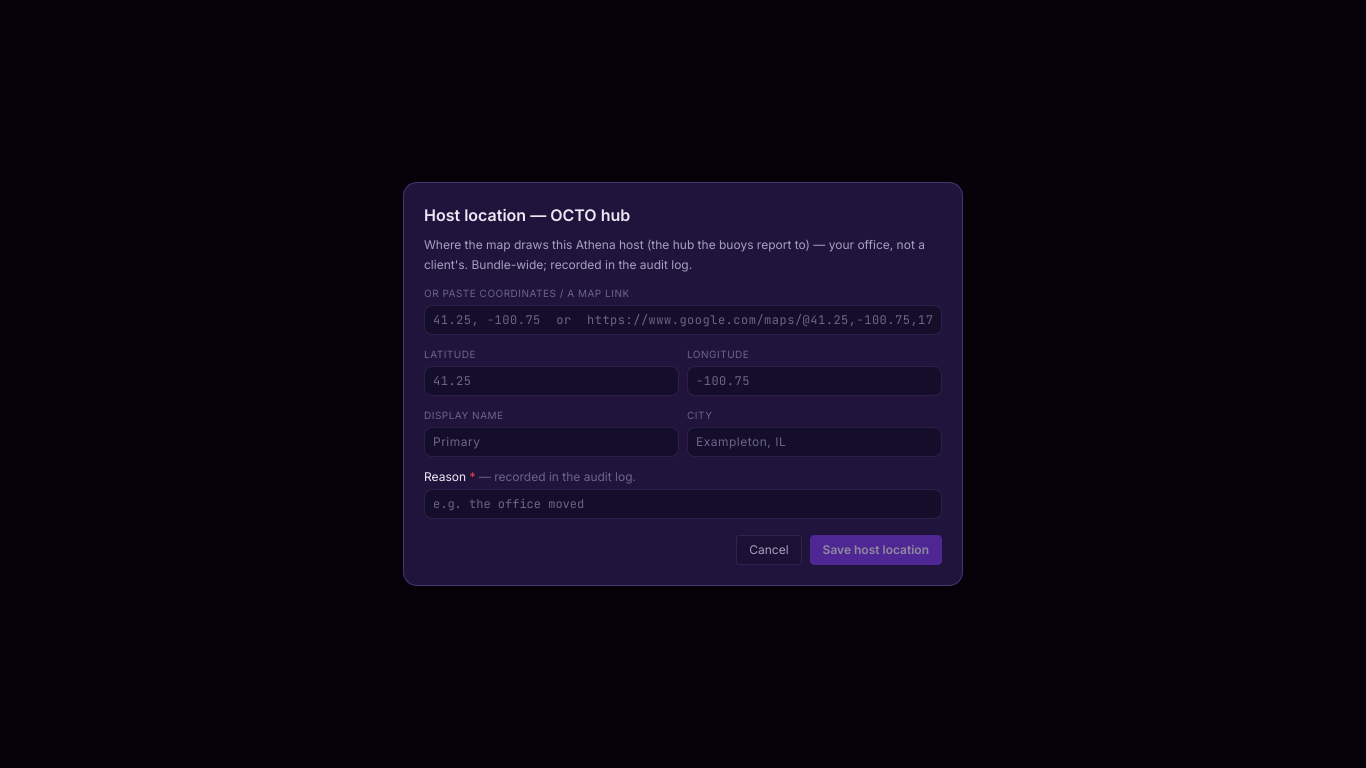
host location dialog › the hub never read: an empty city is not sent; a save error is shown
Replace the text in the field named "paste coordinates or map link" with "41.26, -100.75". click: (683, 320)
box: [424,305,942,335]
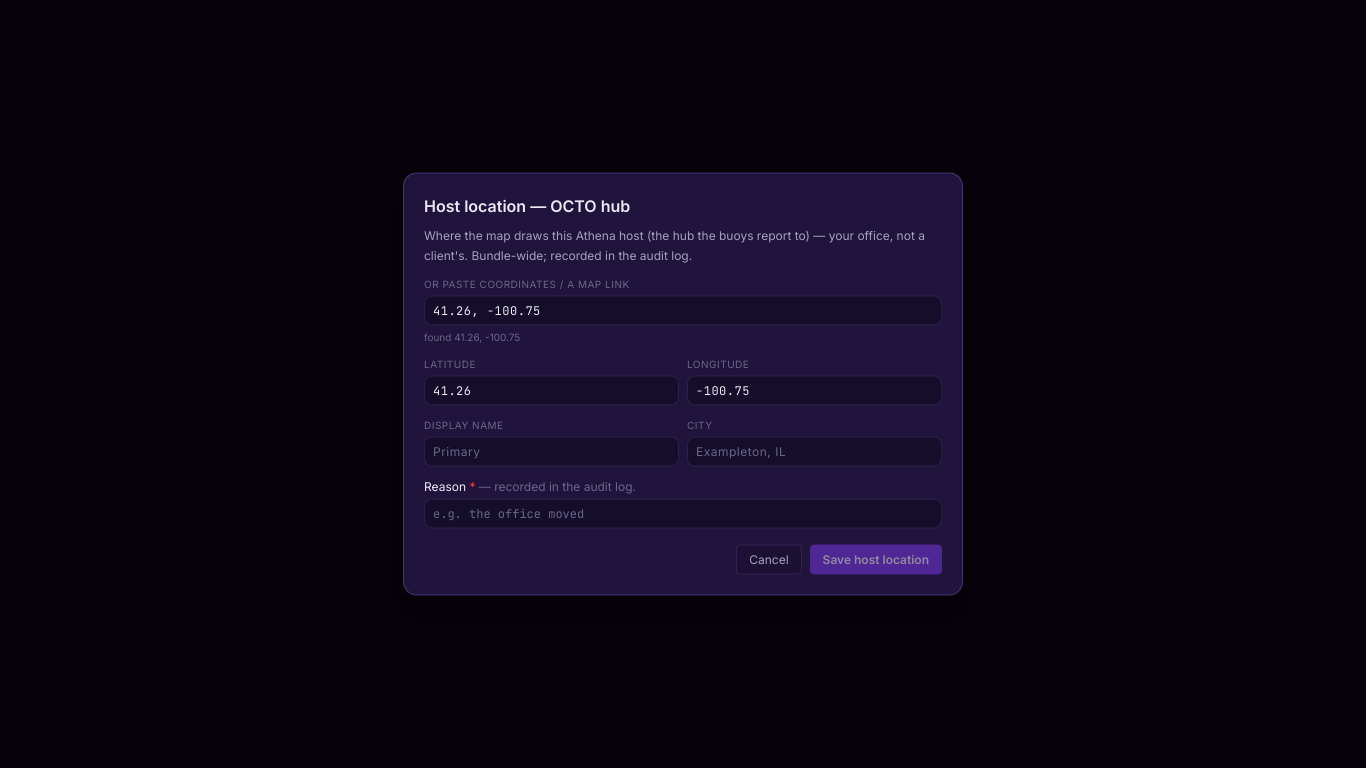
Type "first placement" into the field labelled "Reason". click: (683, 514)
box: [424,498,942,528]
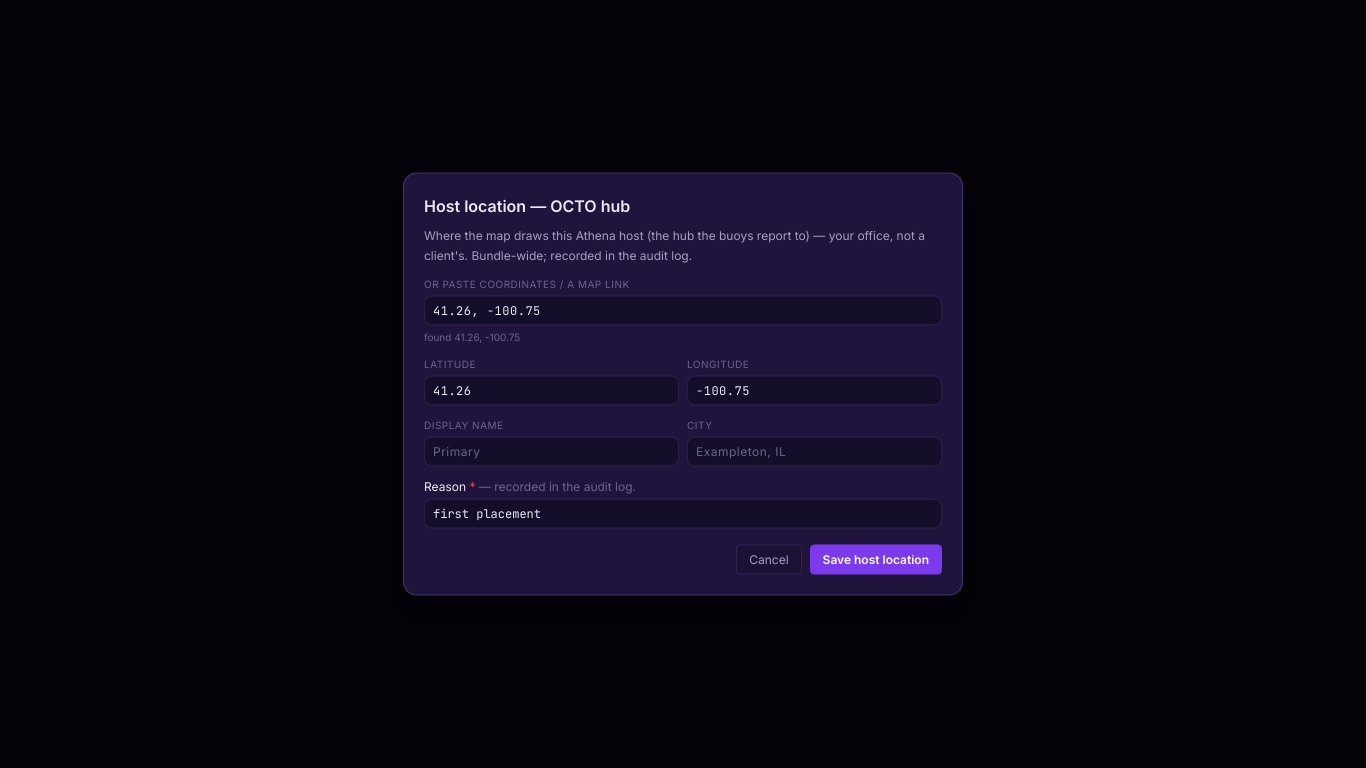
Click the button with test id "host-loc-save". click: (876, 560)
box: [810,544,942,574]
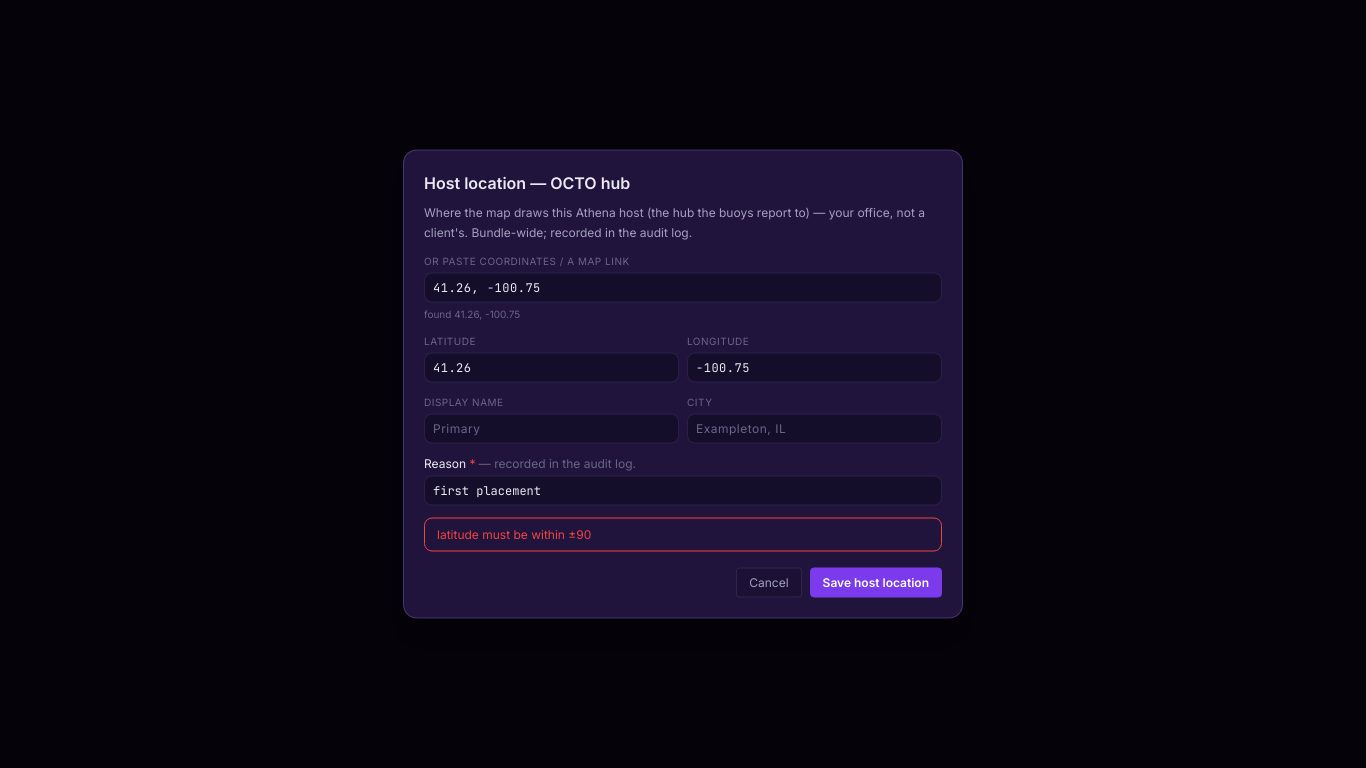
Expected: the dialog with test id "host-location-dialog" is shown, [403,150,963,618]
Result: the message reads "latitude must be within ±90" at [437,526,591,542]
